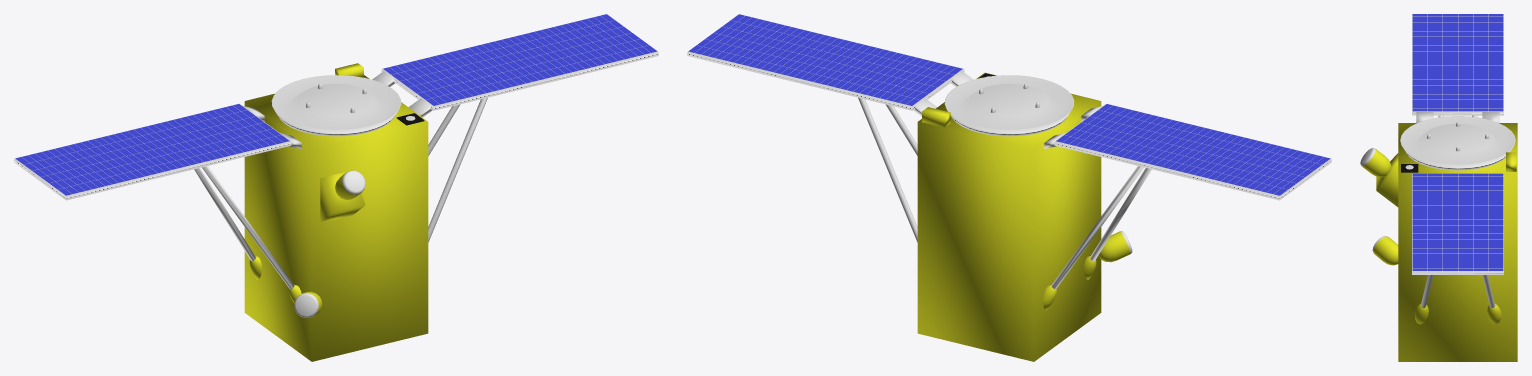
File: satellite_1784874164562_model.glb
The picture shows the model from 3 angles, left to right: view 1: azimuth 30°, elevation 25°; view 2: azimuth 150°, elevation 25°; view 3: azimuth 270°, elevation 25°; orthographic projection. The views are drawn at different scales.
Parts seen in each view (by area): view 1: Cube, Plane, Cube.003, Cylinder, Cylinder.003, Cube.004, Cylinder.005, Cylinder.006; view 2: Cube, Plane, Cube.003, Cylinder, Cylinder.003, Cylinder.006, Cube.004; view 3: Plane, Cube, Cylinder, Cube.003, Cylinder.005, Cylinder.006, Cylinder.004, Cylinder.003, Cube.004, Cube.001, Cube.002.
Boxes of the visible parts, left/top/right/bottom form: Cube: left=244, top=75, right=428, bottom=361; Plane: left=15, top=14, right=657, bottom=195; Cube.003: left=14, top=14, right=658, bottom=200; Cylinder: left=271, top=75, right=401, bottom=136; Cylinder.003: left=194, top=97, right=487, bottom=289; Cube.004: left=243, top=71, right=432, bottom=148; Cylinder.005: left=335, top=170, right=365, bottom=199; Cylinder.006: left=294, top=291, right=322, bottom=317; Cube: left=917, top=72, right=1101, bottom=361; Plane: left=688, top=14, right=1330, bottom=195; Cube.003: left=687, top=14, right=1331, bottom=200; Cylinder: left=944, top=75, right=1074, bottom=136; Cylinder.003: left=858, top=97, right=1151, bottom=289; Cylinder.006: left=1099, top=231, right=1132, bottom=262; Cube.004: left=913, top=71, right=1102, bottom=148; Plane: left=1412, top=14, right=1503, bottom=270; Cube: left=1376, top=123, right=1517, bottom=361; Cylinder: left=1400, top=116, right=1515, bottom=170; Cube.003: left=1412, top=14, right=1503, bottom=274; Cylinder.005: left=1360, top=148, right=1391, bottom=177; Cylinder.006: left=1372, top=236, right=1398, bottom=265; Cylinder.004: left=1414, top=303, right=1501, bottom=324; Cylinder.003: left=1420, top=115, right=1495, bottom=307; Cube.004: left=1416, top=112, right=1499, bottom=122; Cube.001: left=1506, top=152, right=1516, bottom=171; Cube.002: left=1401, top=164, right=1418, bottom=172.
Bounding box in the file's own units: 10.66 × 3.91 × 2.76.
